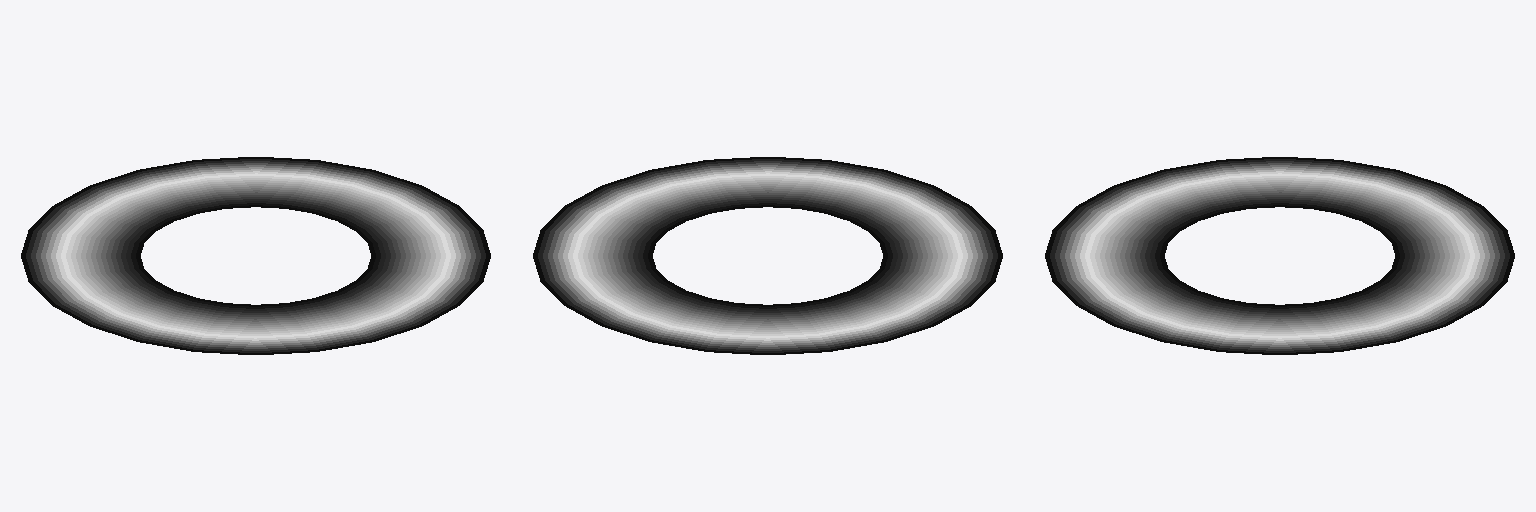
3 renders of one model, left to right at view 1: azimuth 30°, elevation 25°; view 2: azimuth 150°, elevation 25°; view 3: azimuth 270°, elevation 25°, orthographic.
Parts seen in each view (by area): view 1: T1L6M009_30; view 2: T1L6M009_30; view 3: T1L6M009_30.
Part boxes in pixels (x1,y1,x2,y2): T1L6M009_30: (21,157,490,354); T1L6M009_30: (533,157,1002,354); T1L6M009_30: (1045,157,1514,354).
Bounding box in the file's own units: 3.43 × 0 × 3.43.
1 materials, 1 textured.